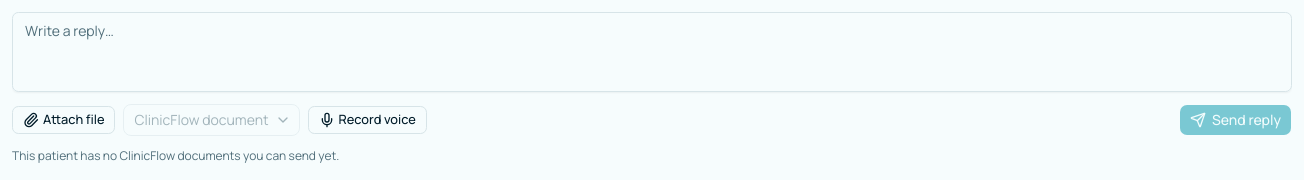
it: P8B Inbox composer › falls back to the browser default when the stored device disappeared
Click the button "Record voice": (367, 120) [308,106,427,134]
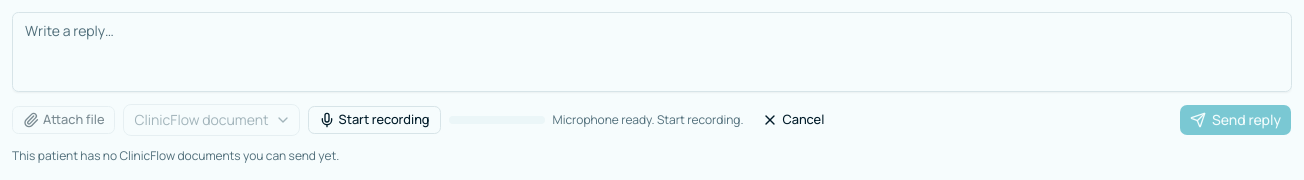
Check: the text "Microphone ready. Start recording." is shown, box [552,112,743,128]
